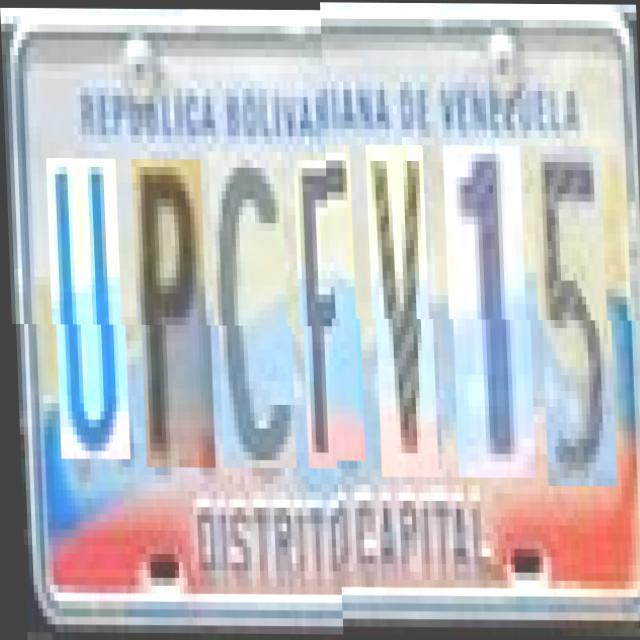1: (446, 153, 532, 485)
5: (535, 154, 614, 494)
C: (211, 152, 293, 468)
F: (296, 152, 362, 468)
P: (134, 159, 212, 467)
U: (49, 158, 127, 458)
V: (369, 152, 435, 484)
